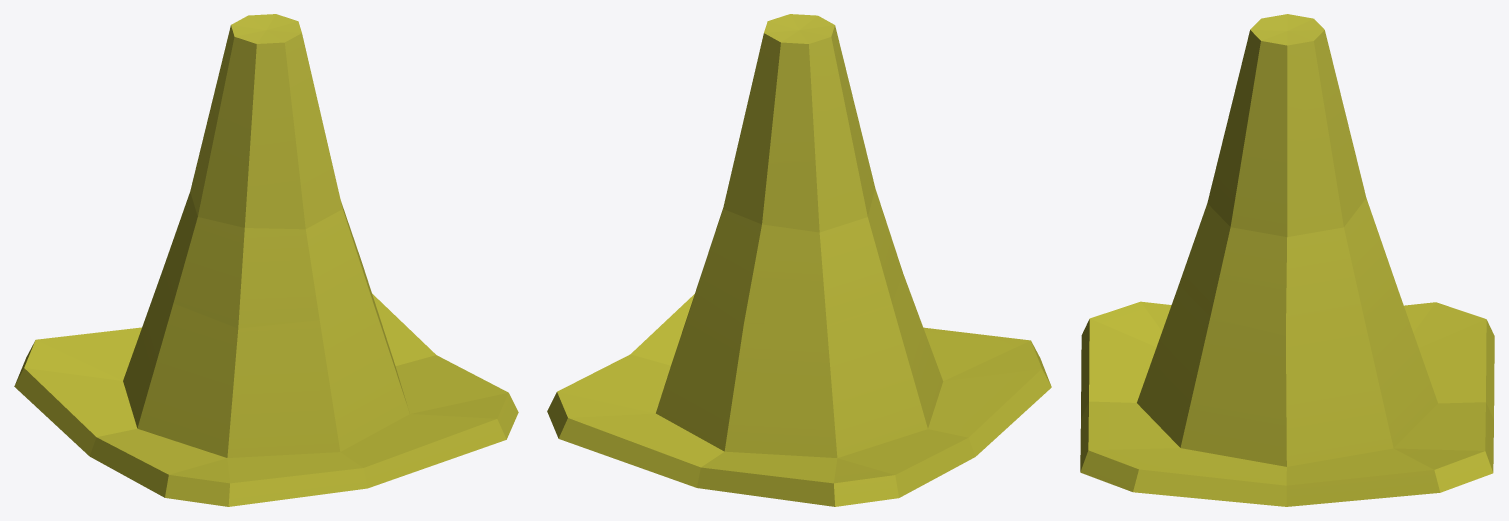
Rendered from Traffic_Cone_Yellow.glb.
The picture shows the model from 3 angles, left to right: view 1: azimuth 30°, elevation 25°; view 2: azimuth 150°, elevation 25°; view 3: azimuth 270°, elevation 25°; orthographic projection.
Parts seen in each view (by area): view 1: Traffic_Cone_Yellow; view 2: Traffic_Cone_Yellow; view 3: Traffic_Cone_Yellow.
Boxes of the visible parts, box(x1,y1,x2,y2) form: Traffic_Cone_Yellow: box(14, 14, 518, 506); Traffic_Cone_Yellow: box(547, 14, 1051, 506); Traffic_Cone_Yellow: box(1080, 14, 1494, 506).
Size of what is drawn, in the model's own units: 0.5267 by 0.5469 by 0.5268.
1 material, 1 textured.
